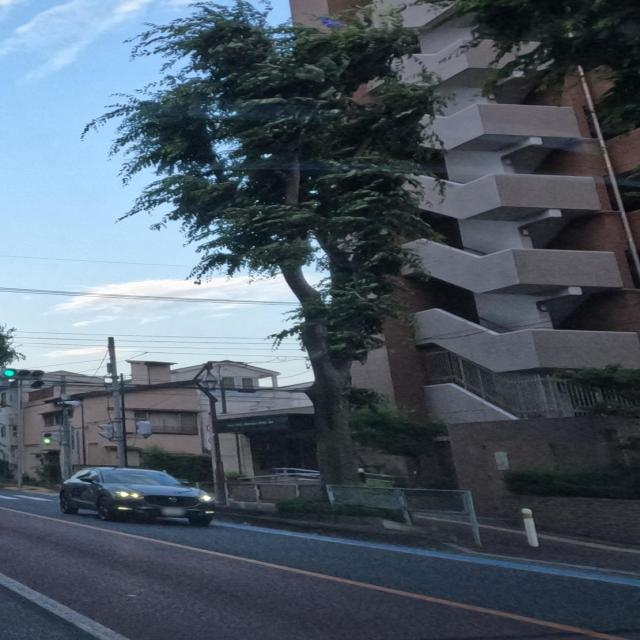zelkova: (78, 0, 458, 502)
